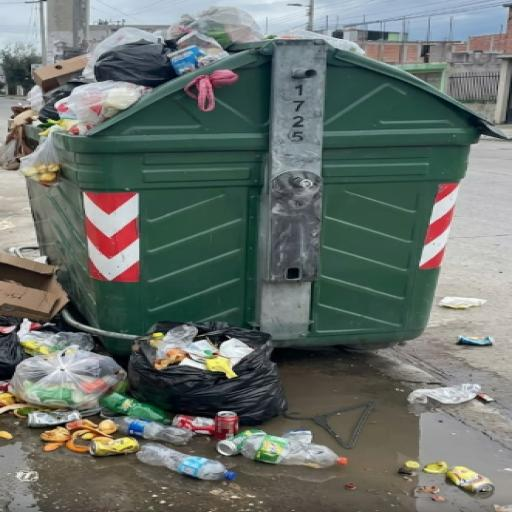Basura_fuera: (0, 7, 497, 426), (22, 419, 226, 511)
